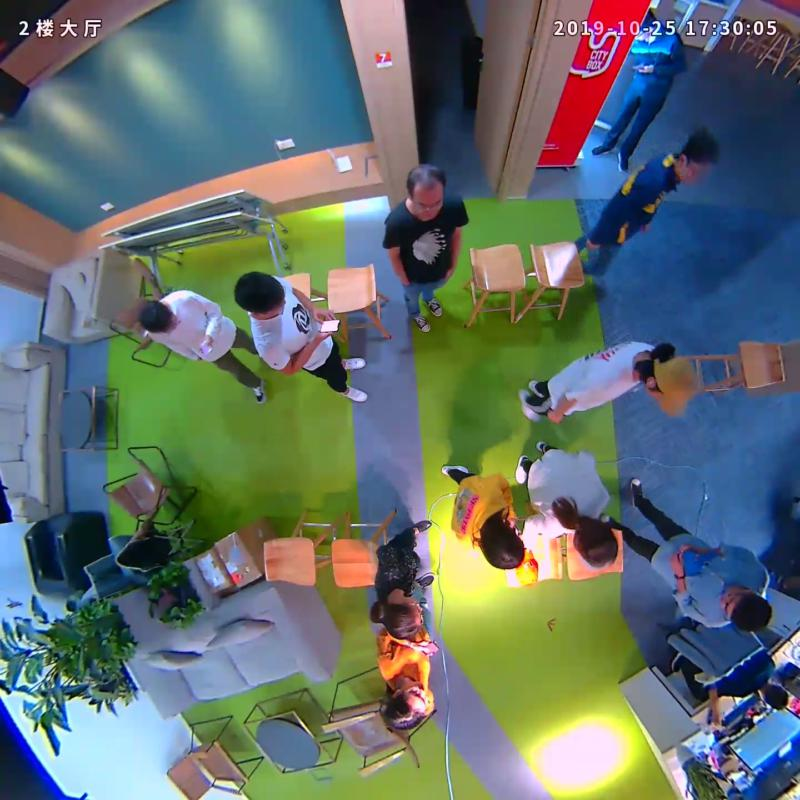head: (640, 355, 699, 419), (233, 272, 285, 322), (718, 585, 773, 632), (573, 518, 619, 570), (674, 131, 718, 185), (406, 162, 446, 220), (384, 682, 429, 732), (480, 522, 525, 570), (381, 597, 423, 639), (140, 299, 178, 334)
